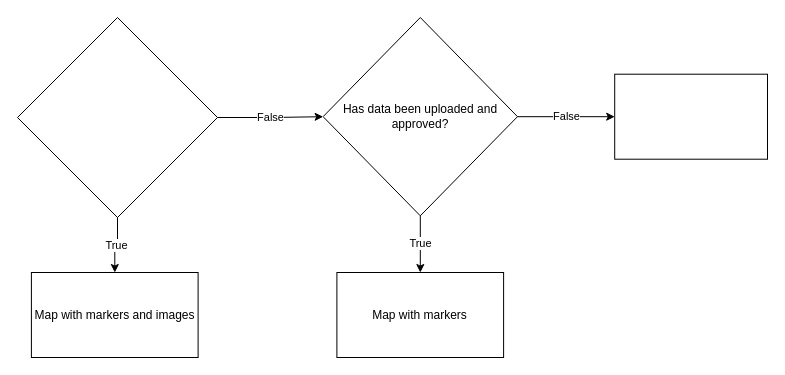
Some shapes in this 785 by 375 pixel diagram are drawn without their labels. The shapes that lost their labels are listed below. From the top down, each one's centre as x and y in pixels, then its label:
pixel 117 117: Have data + images been uploaded and approved?
pixel 691 116: Bare map
